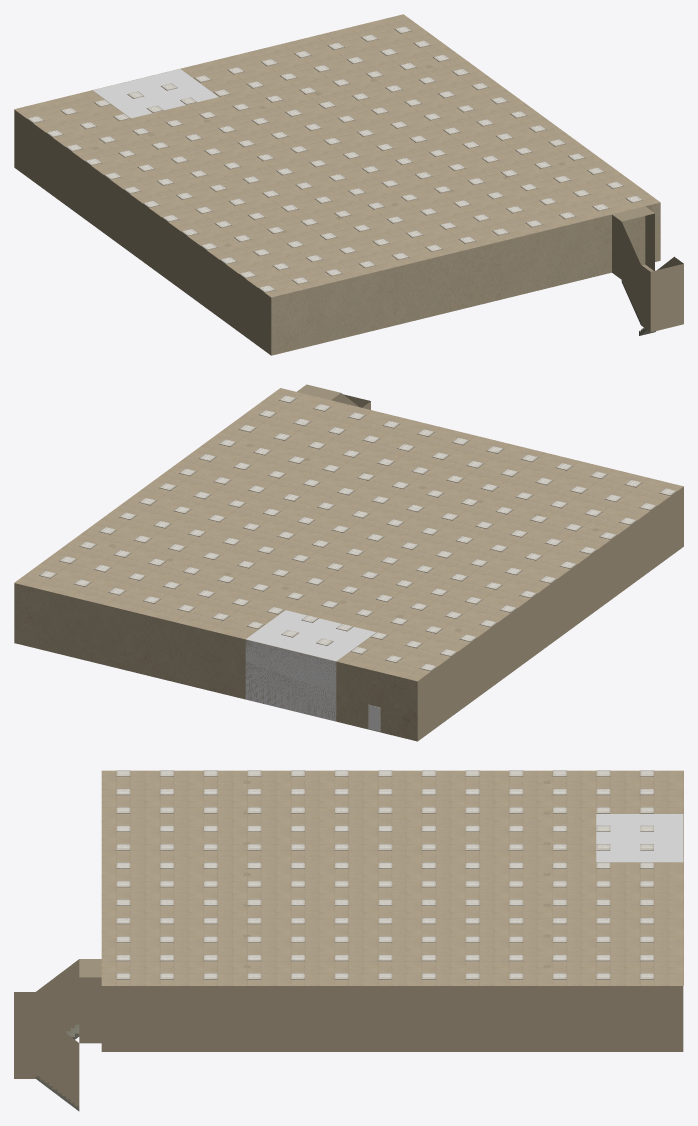
The model's file is 办公室场景.fbx.
The picture shows the model from 3 angles, top to bottom: view 1: azimuth 30°, elevation 25°; view 2: azimuth 150°, elevation 25°; view 3: azimuth 270°, elevation 25°; orthographic projection. The views are drawn at different scales.
Parts seen in each view (by area): view 1: 天花板, 墙左, 墙前, Cube.026, Cube.024, Cube.025, Cube.027; view 2: 天花板, 墙右, 墙前, Cube.026; view 3: 天花板, 墙后, Cube.026, Cube.028, Cube.027, Cube.025, Cube.024.
Part boxes in pixels (x1,y1,x2,y2): 天花板: (14, 14, 660, 297); 墙左: (271, 202, 660, 355); 墙前: (14, 110, 271, 355); Cube.026: (93, 69, 218, 118); Cube.024: (641, 257, 683, 332); Cube.025: (612, 206, 654, 279); Cube.027: (621, 222, 640, 320); 天花板: (14, 388, 683, 681); 墙右: (14, 583, 417, 741); 墙前: (417, 486, 683, 740); Cube.026: (245, 610, 375, 721); 天花板: (101, 770, 683, 985); 墙后: (101, 986, 683, 1051); Cube.026: (596, 814, 683, 862); Cube.028: (35, 1010, 79, 1106); Cube.027: (35, 959, 79, 1032); Cube.025: (79, 959, 101, 1043); Cube.024: (14, 992, 35, 1078).
Size of the model in its own units: 3501 by 1024 by 4606.
